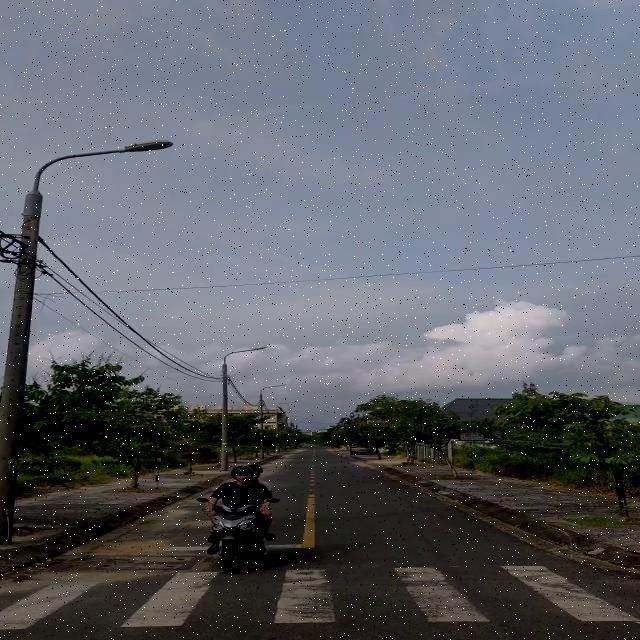helmet: (230, 465, 257, 489)
